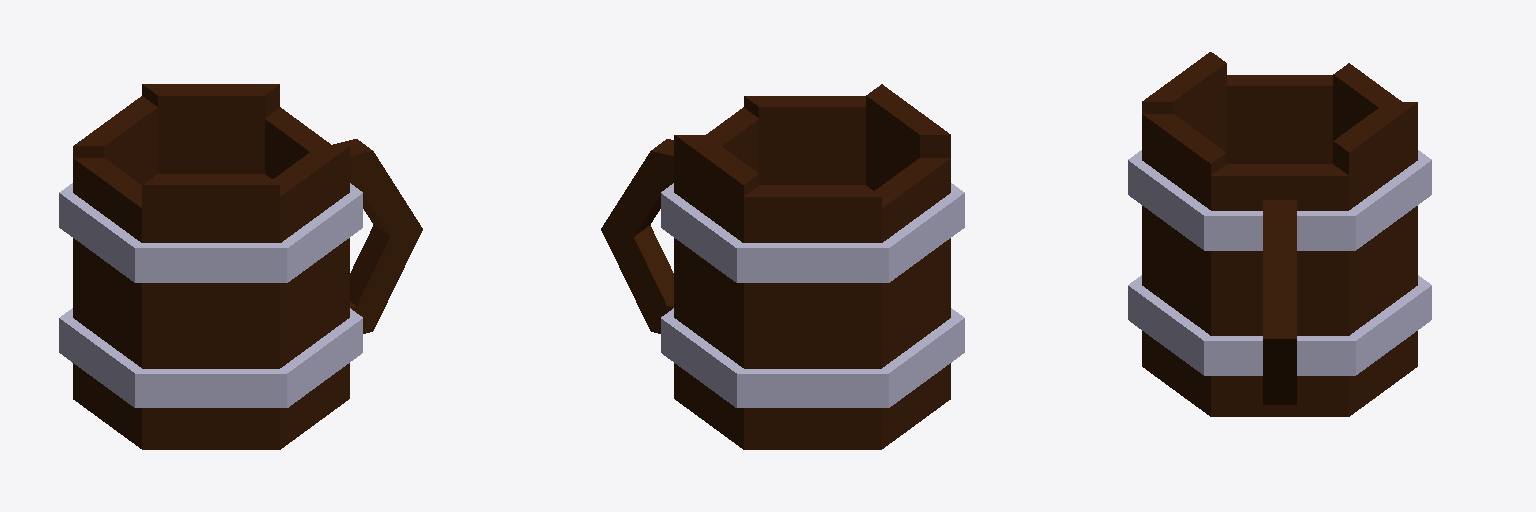
The model's file is Cup.obj.
The picture shows the model from 3 angles: view 1: azimuth 30°, elevation 25°; view 2: azimuth 150°, elevation 25°; view 3: azimuth 270°, elevation 25°; orthographic projection.
Parts seen in each view (by area): view 1: cup; view 2: cup; view 3: cup.
Boxes of the visible parts, <box> form: cup: <box>59,84,422,449</box>; cup: <box>601,84,964,449</box>; cup: <box>1128,52,1431,416</box>.
Bounding box in the file's own units: 1.72 × 1.37 × 1.43.